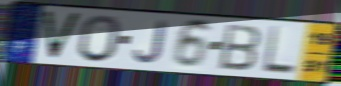6: (169, 17, 215, 72)
B: (218, 22, 263, 72)
J: (133, 19, 168, 65)
L: (260, 25, 297, 76)
O: (77, 13, 123, 64)
V: (40, 9, 84, 62)
